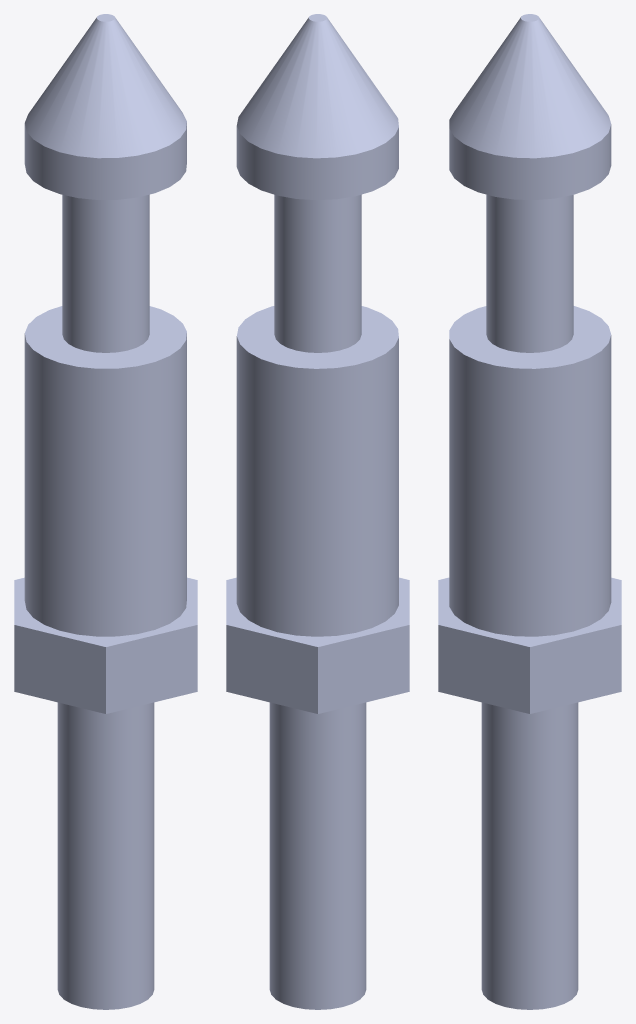
The model's file is Mini Post 6-32 Thread (02-4195).fbx.
The picture shows the model from 3 angles, left to right: view 1: azimuth 30°, elevation 25°; view 2: azimuth 150°, elevation 25°; view 3: azimuth 270°, elevation 25°; orthographic projection.
Parts seen in each view (by area): view 1: Mini Post 6-32 Thread (02-4195); view 2: Mini Post 6-32 Thread (02-4195); view 3: Mini Post 6-32 Thread (02-4195).
Part boxes in pixels (bbox=[...]): Mini Post 6-32 Thread (02-4195): bbox=[14, 14, 197, 1009]; Mini Post 6-32 Thread (02-4195): bbox=[226, 14, 409, 1009]; Mini Post 6-32 Thread (02-4195): bbox=[438, 14, 621, 1009].
Size of the model in its own units: 0.7274 by 3.69 by 0.6299.
